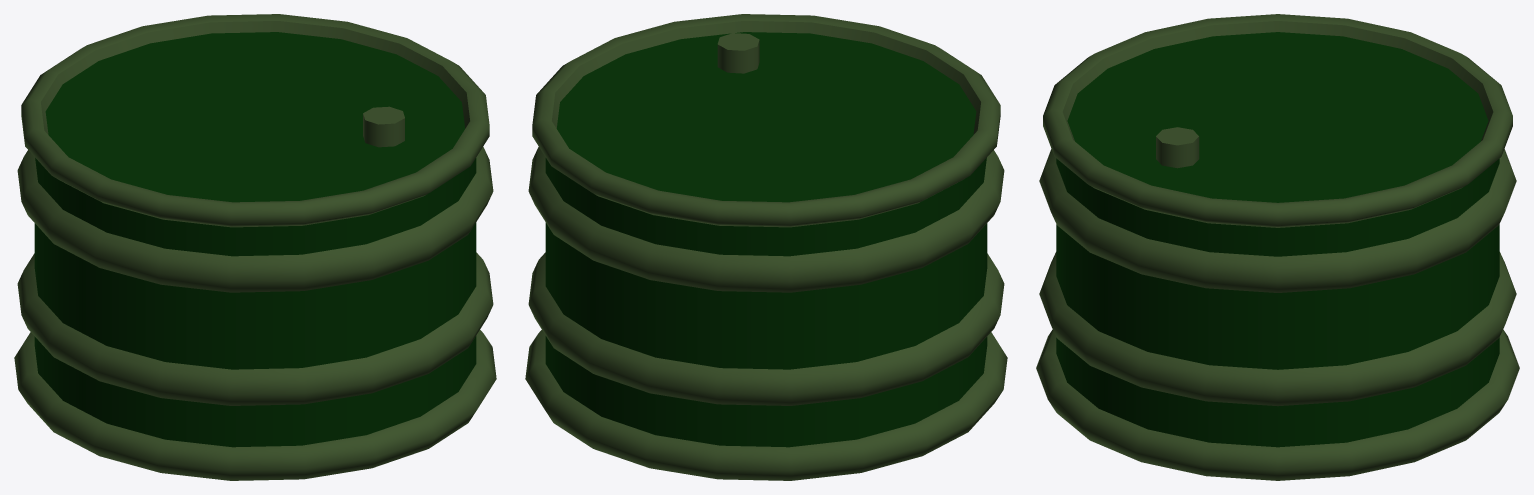
File: SM_2x2_Largebarrel.fbx
The picture shows the model from 3 angles, left to right: view 1: azimuth 30°, elevation 25°; view 2: azimuth 150°, elevation 25°; view 3: azimuth 270°, elevation 25°; orthographic projection.
Visible parts, largest first — view 1: pTorus10; view 2: pTorus10; view 3: pTorus10.
Part boxes in pixels (x1=…): pTorus10: x1=14, y1=14, x2=496, y2=480; pTorus10: x1=525, y1=14, x2=1007, y2=480; pTorus10: x1=1036, y1=14, x2=1519, y2=480.
Bounding box in the file's own units: 188 × 122 × 188.
